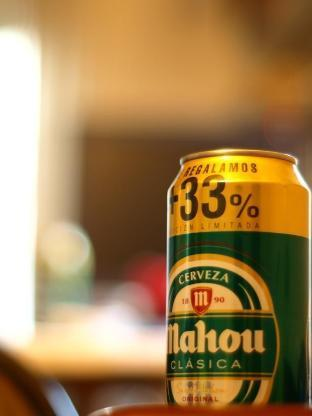Can: (167, 148, 312, 416)
